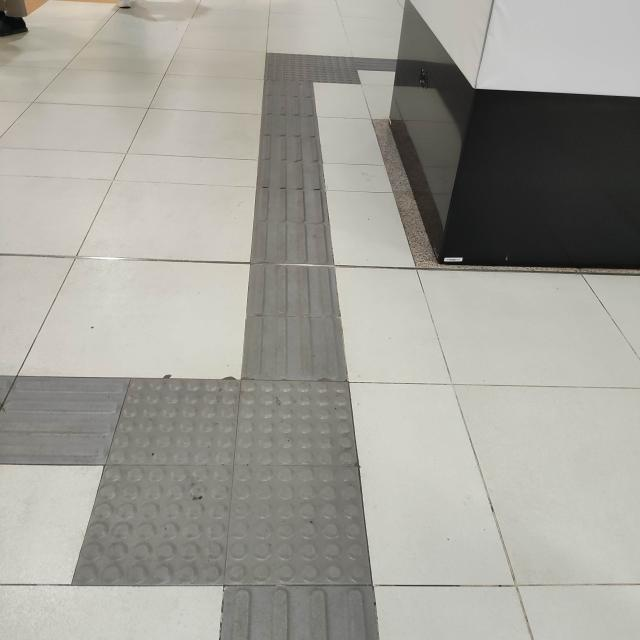kanan: (225, 30, 390, 111)
